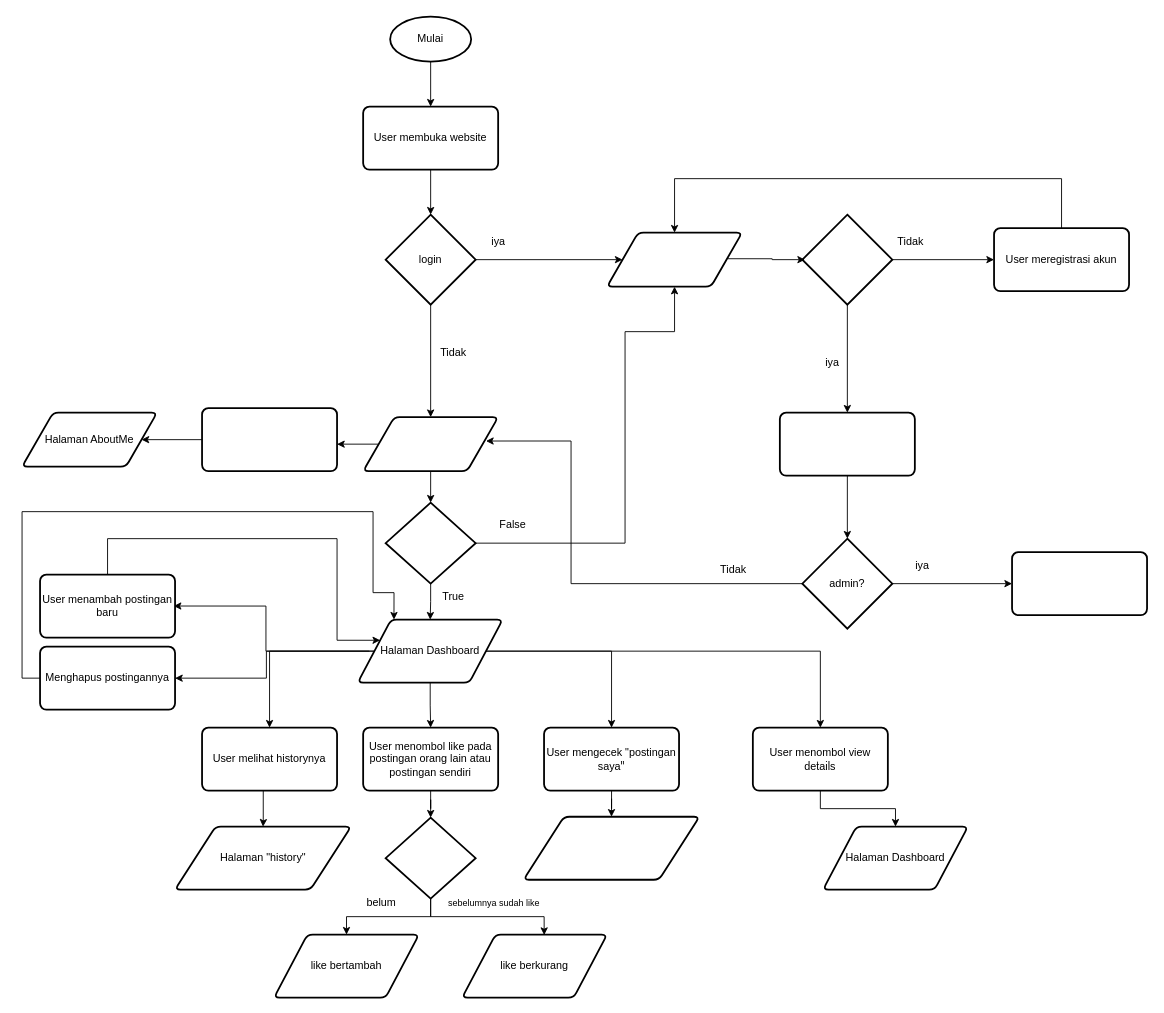
Some shapes in this 1164 by 1013 pixel diagram are drawn without their labels. The shapes that lost their labels are listed below. From the top down, each one's centre as x and y in pixels, then its label:
pixel 674 259: Halaman login
pixel 847 259: punya akun?
pixel 269 439: User menombol tentang kami
pixel 430 444: Halaman Utama
pixel 846 443: Masukan email/nama dan passwordnya
pixel 430 542: Status login
pixel 1079 583: User Memasuki panel admin
pixel 430 857: belum like?
pixel 611 847: Halaman "postingan saya"
